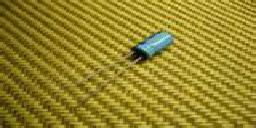Electrolytic-capacitor: (66, 31, 176, 119), (124, 31, 176, 68)
